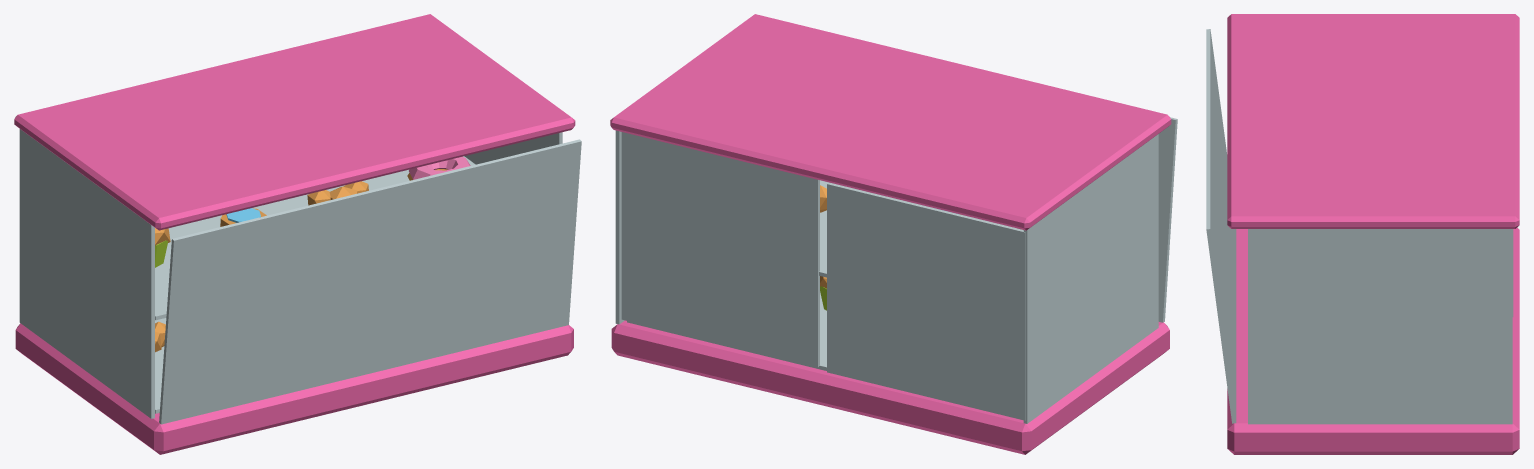
3 renders of one model, left to right at view 1: azimuth 30°, elevation 25°; view 2: azimuth 150°, elevation 25°; view 3: azimuth 270°, elevation 25°, orthographic.
Parts seen in each view (by area): view 1: glass_front, top_frame, glass_side_l, base, shelf_1, glass_side_r, icing_8; view 2: top_frame, rear_door_l, rear_door_r, glass_side_l, base, glass_front, glass_side_r, shelf_0; view 3: top_frame, glass_side_r, base, glass_front.
Boxes of the visible parts, x1,y1,x2,y2 form: glass_front: (159, 139, 581, 424); top_frame: (14, 14, 575, 230); glass_side_l: (19, 129, 154, 418); base: (15, 323, 573, 454); shelf_1: (155, 156, 475, 320); glass_side_r: (464, 132, 562, 164); icing_8: (409, 156, 470, 179); top_frame: (610, 14, 1171, 230); rear_door_l: (827, 182, 1025, 420); rear_door_r: (621, 132, 819, 367); glass_side_l: (1023, 134, 1158, 423); base: (611, 320, 1169, 454); glass_front: (1158, 117, 1177, 322); glass_side_r: (615, 130, 624, 324); shelf_0: (627, 291, 826, 370); top_frame: (1227, 14, 1519, 228); glass_side_r: (1248, 229, 1512, 424); base: (1227, 227, 1519, 454); glass_front: (1206, 29, 1236, 423).
Size of the model in its own units: 0.7 by 0.38 by 0.4501.
